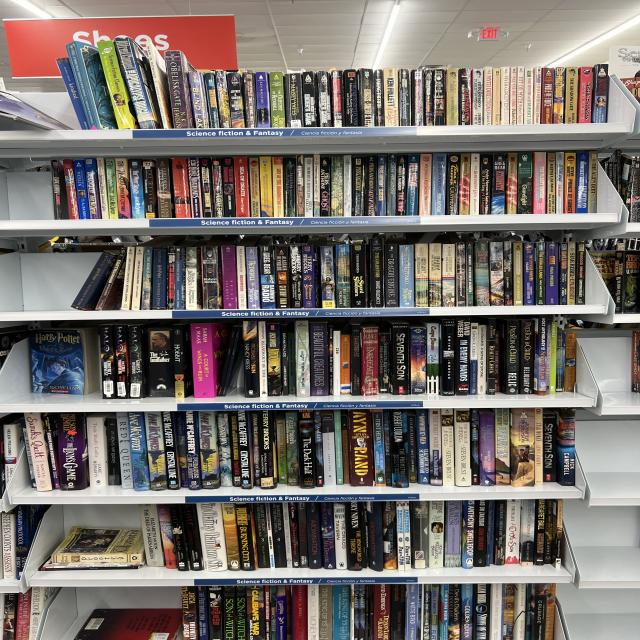book: (113, 31, 164, 133), (396, 319, 456, 396), (70, 245, 127, 318), (64, 41, 103, 132), (428, 321, 471, 395), (299, 155, 350, 216), (55, 55, 94, 131), (21, 411, 56, 493), (195, 501, 229, 573), (57, 413, 88, 491), (228, 413, 260, 488), (8, 505, 38, 580), (144, 327, 175, 398), (444, 242, 477, 308), (187, 247, 221, 310), (190, 324, 217, 398), (23, 584, 58, 640), (127, 412, 151, 491), (218, 413, 242, 488), (217, 325, 242, 395), (511, 410, 534, 486), (308, 321, 331, 397), (171, 323, 194, 399), (350, 411, 373, 486), (256, 71, 286, 128), (139, 503, 165, 568), (256, 412, 277, 489), (241, 321, 261, 397), (413, 409, 433, 485), (87, 415, 108, 487), (162, 411, 181, 490), (270, 504, 293, 569), (156, 504, 178, 570), (466, 243, 489, 306), (345, 502, 366, 570), (517, 319, 536, 394), (184, 411, 202, 490), (390, 324, 410, 395), (235, 504, 256, 571), (98, 325, 117, 399), (127, 325, 146, 399), (493, 408, 511, 485), (265, 324, 284, 396), (557, 409, 575, 485), (453, 410, 471, 486), (221, 503, 241, 571), (484, 68, 508, 124), (533, 317, 550, 395), (352, 156, 374, 216), (485, 501, 505, 566), (410, 501, 429, 569), (391, 411, 408, 487), (294, 321, 311, 397), (154, 158, 175, 219), (216, 412, 233, 487), (320, 411, 337, 485), (114, 325, 131, 399), (479, 412, 496, 486), (402, 411, 419, 483), (171, 157, 191, 218), (213, 69, 233, 129), (454, 320, 470, 395), (243, 247, 262, 310), (444, 501, 462, 567), (350, 242, 368, 308), (331, 410, 347, 484), (284, 412, 300, 486), (83, 158, 102, 220), (318, 247, 337, 309), (183, 248, 202, 310), (104, 416, 121, 485), (226, 71, 246, 129), (361, 327, 378, 395), (201, 72, 221, 129), (482, 67, 502, 124), (0, 513, 17, 580), (258, 245, 276, 308), (484, 319, 499, 394), (320, 503, 337, 569), (233, 156, 251, 218), (167, 247, 185, 309), (227, 413, 242, 487), (306, 503, 323, 568), (575, 66, 594, 124), (490, 154, 508, 215), (313, 155, 331, 216), (114, 158, 132, 219), (504, 321, 519, 394), (532, 585, 553, 637), (382, 501, 398, 569), (512, 583, 531, 640), (410, 327, 426, 394), (428, 501, 444, 568), (520, 499, 536, 566), (301, 245, 318, 308), (471, 323, 486, 394), (543, 411, 558, 482), (441, 410, 455, 486), (210, 158, 228, 217), (174, 413, 188, 488), (284, 73, 303, 128), (342, 69, 360, 127), (382, 68, 400, 126), (505, 500, 521, 564), (73, 160, 90, 220), (221, 246, 237, 309), (474, 500, 489, 567), (351, 157, 368, 216), (429, 409, 442, 486), (397, 501, 411, 572), (94, 158, 110, 220), (14, 588, 33, 640), (241, 71, 258, 129), (335, 246, 351, 307), (312, 411, 325, 486), (473, 584, 491, 638), (373, 585, 391, 639), (357, 69, 374, 126), (220, 158, 236, 218), (551, 500, 565, 568), (461, 501, 475, 569), (414, 244, 429, 307), (151, 250, 167, 309), (534, 499, 548, 566), (488, 584, 505, 639), (399, 245, 414, 307), (276, 246, 291, 308), (517, 152, 532, 214), (592, 64, 608, 122), (475, 240, 489, 306), (426, 323, 439, 394), (274, 413, 287, 484), (373, 410, 385, 486), (510, 67, 526, 124), (292, 586, 309, 639), (543, 500, 557, 564), (0, 593, 19, 640), (247, 158, 262, 217), (199, 158, 214, 217), (384, 244, 398, 307), (521, 69, 537, 124), (306, 585, 322, 640), (164, 247, 178, 309), (545, 242, 559, 304), (532, 152, 546, 214), (563, 152, 577, 214), (418, 154, 432, 215), (331, 156, 345, 217), (446, 154, 460, 215), (207, 586, 223, 639), (288, 503, 301, 568), (182, 587, 198, 639), (429, 243, 442, 307), (141, 247, 154, 310), (302, 72, 317, 126), (523, 243, 536, 305), (505, 153, 518, 215), (535, 242, 548, 304), (221, 587, 237, 637), (459, 68, 473, 125), (386, 154, 399, 215), (576, 152, 589, 213), (545, 153, 558, 214), (283, 156, 296, 217), (317, 71, 331, 127), (479, 154, 492, 214), (105, 159, 118, 219), (297, 503, 309, 568), (406, 155, 419, 215), (540, 68, 554, 123), (446, 68, 459, 125), (398, 69, 411, 126), (565, 67, 578, 124), (552, 67, 565, 124), (411, 70, 424, 126), (434, 69, 447, 125), (502, 584, 515, 640), (379, 332, 391, 392), (364, 156, 376, 216), (459, 154, 471, 214), (272, 157, 284, 217), (340, 411, 350, 483), (461, 584, 474, 639), (406, 585, 419, 639), (512, 242, 523, 305), (574, 242, 585, 305), (498, 67, 510, 124), (340, 332, 351, 394), (557, 242, 568, 304), (469, 154, 480, 214), (376, 155, 387, 215), (503, 241, 513, 306), (470, 323, 479, 395), (373, 69, 384, 126), (197, 587, 209, 639), (236, 247, 246, 309), (423, 69, 434, 125), (588, 152, 598, 213), (303, 156, 313, 216), (429, 585, 440, 639), (276, 587, 287, 639), (532, 67, 542, 124), (556, 330, 565, 392), (567, 243, 576, 304), (343, 156, 352, 216), (509, 67, 518, 124), (327, 324, 334, 396), (57, 445, 66, 488), (86, 167, 90, 186), (214, 540, 221, 549)
